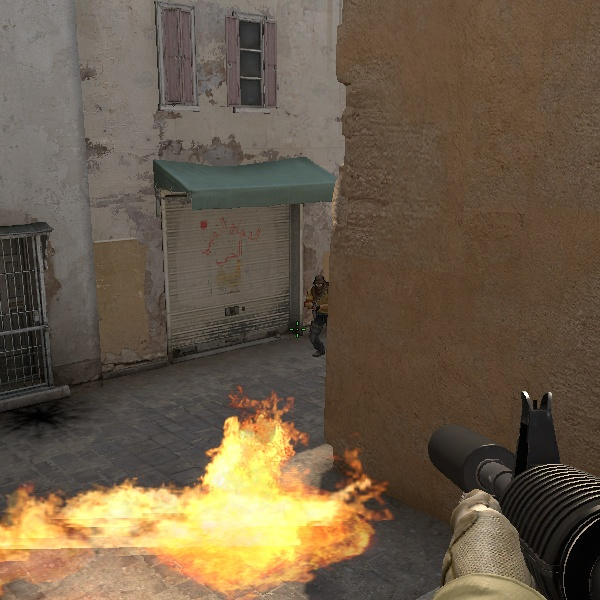t_body: (301, 273, 336, 359)
t_head: (312, 274, 326, 293)
